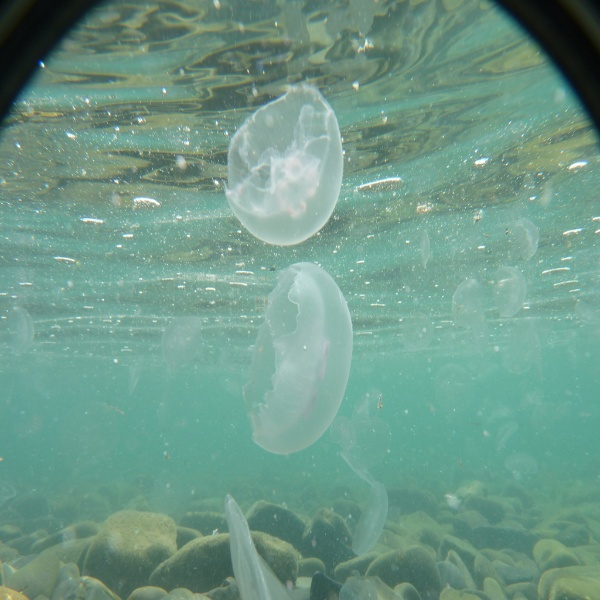Jellyfish: (0, 79, 599, 599)
